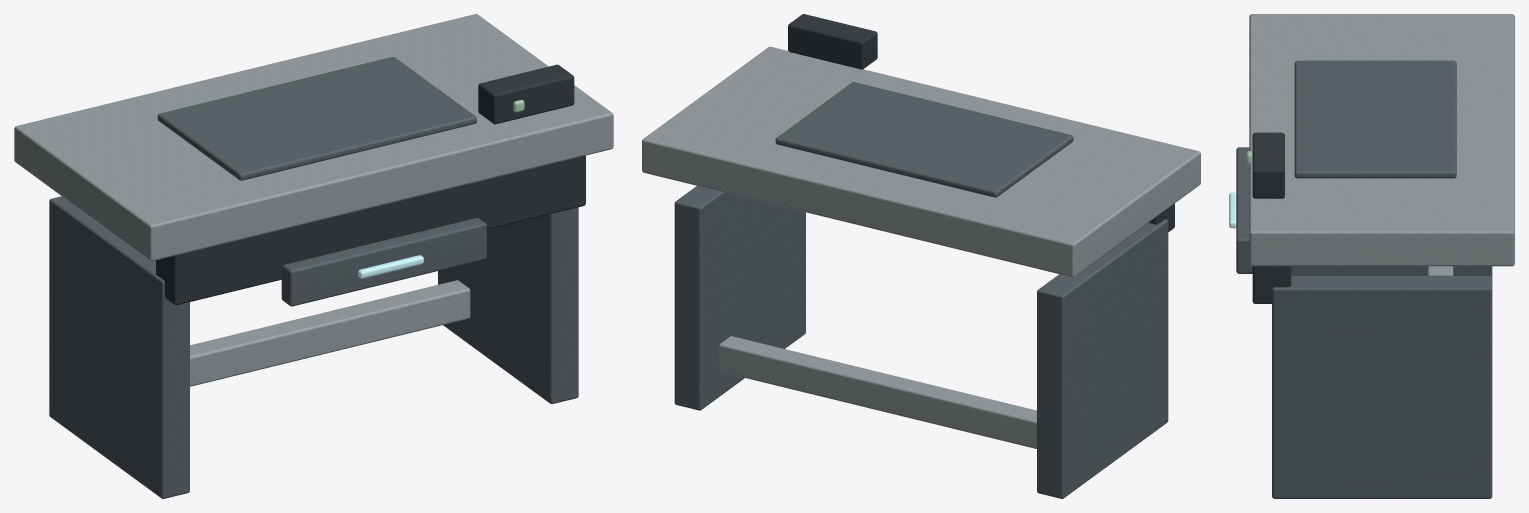
Rendered from Workbench.glb.
3 renders of one model, left to right at view 1: azimuth 30°, elevation 25°; view 2: azimuth 150°, elevation 25°; view 3: azimuth 270°, elevation 25°, orthographic. The views are drawn at different scales.
Parts seen in each view (by area): view 1: Workbench_Mesh; view 2: Workbench_Mesh; view 3: Workbench_Mesh.
Boxes of the visible parts, x1=… form: Workbench_Mesh: x1=14, y1=14, x2=613, y2=498; Workbench_Mesh: x1=642, y1=14, x2=1200, y2=498; Workbench_Mesh: x1=1229, y1=14, x2=1514, y2=498.
Bounding box in the file's own units: 1.6 × 1.1 × 0.8825.
Materials: 5 (5 with a texture image).
